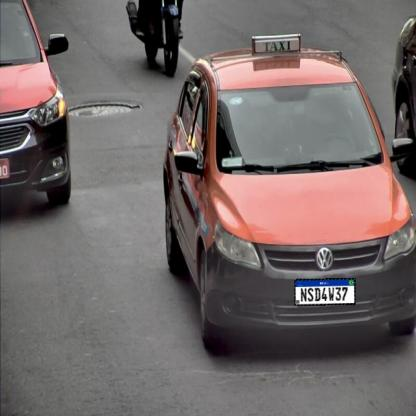PlacaM: (294, 278, 356, 306)
